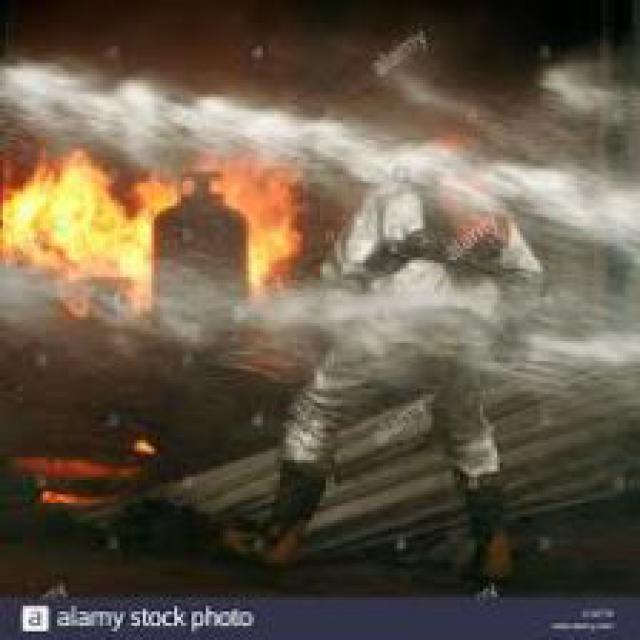fire: (3, 140, 297, 311)
